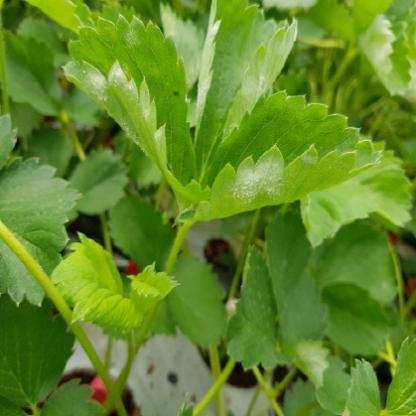Strawberry_Powdery_Mildew_Leaf: (61, 11, 210, 214), (176, 88, 384, 223), (194, 0, 298, 189)
